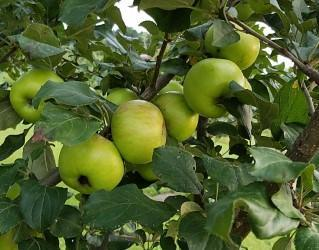apple: (58, 133, 124, 194), (183, 58, 246, 116), (110, 99, 166, 164), (204, 20, 260, 72), (10, 70, 64, 123), (153, 86, 198, 140)
